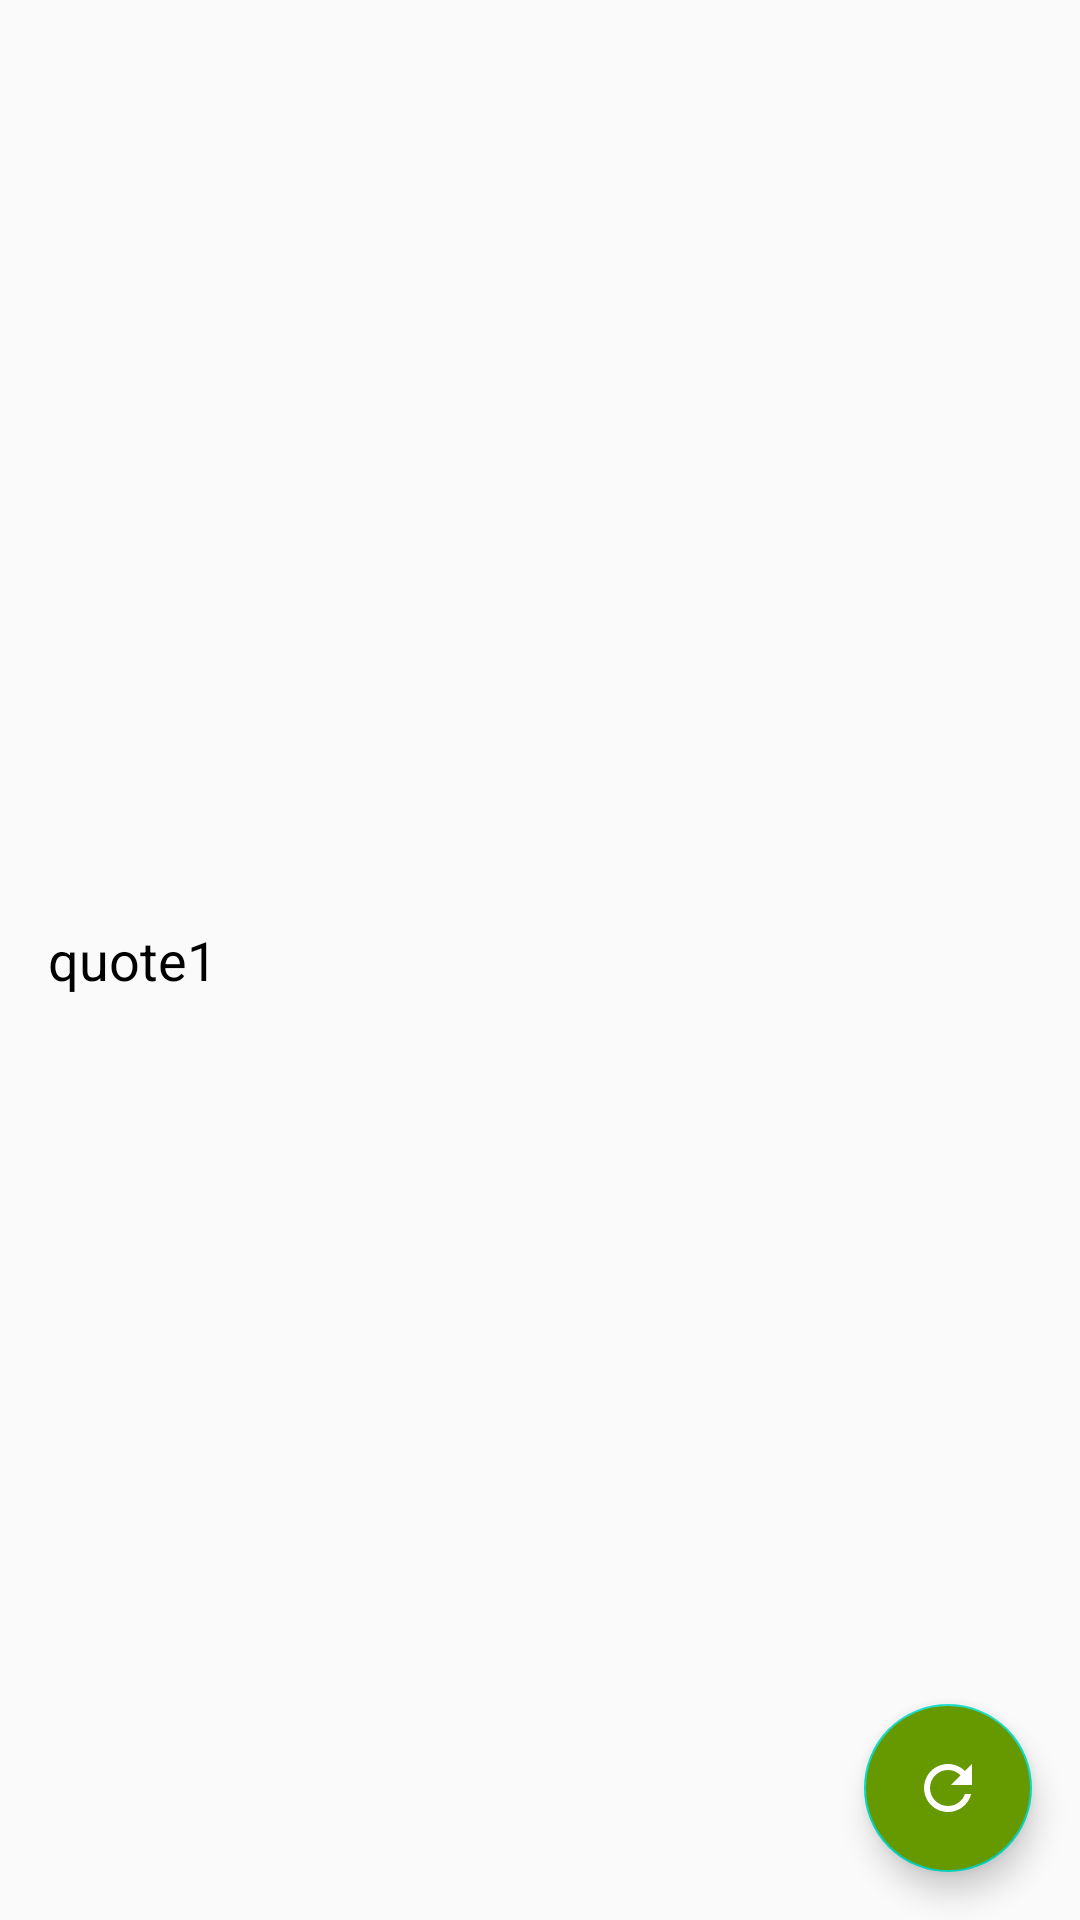

Point at icon controls on the screen. Image size 1080×1920, points as (x=x, y=y).
refresh: (x=948, y=1788)
